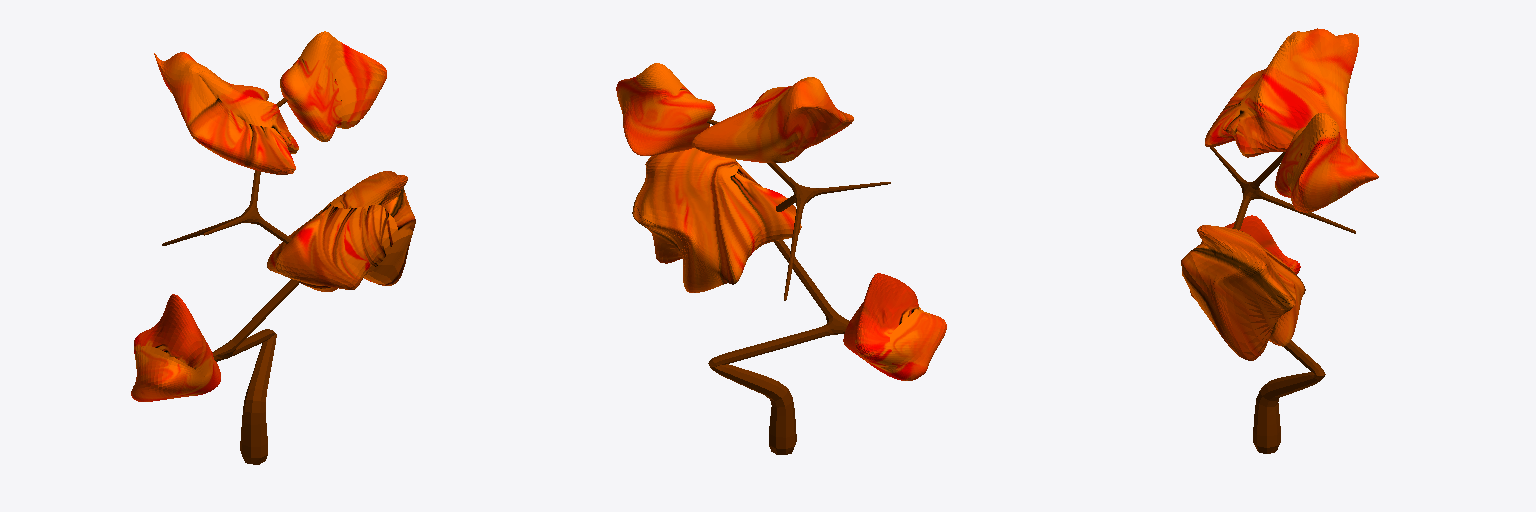
The picture shows the model from 3 angles: view 1: azimuth 30°, elevation 25°; view 2: azimuth 150°, elevation 25°; view 3: azimuth 270°, elevation 25°; orthographic projection.
Visible parts, largest first — view 1: Sphere; view 2: Sphere; view 3: Sphere.
Boxes of the visible parts, <box> form: Sphere: <box>131,31,415,464</box>; Sphere: <box>616,63,946,454</box>; Sphere: <box>1181,28,1378,453</box>.
Size of the model in its own units: 7.17 by 9.76 by 4.35.
Materials: 1 (1 with a texture image).